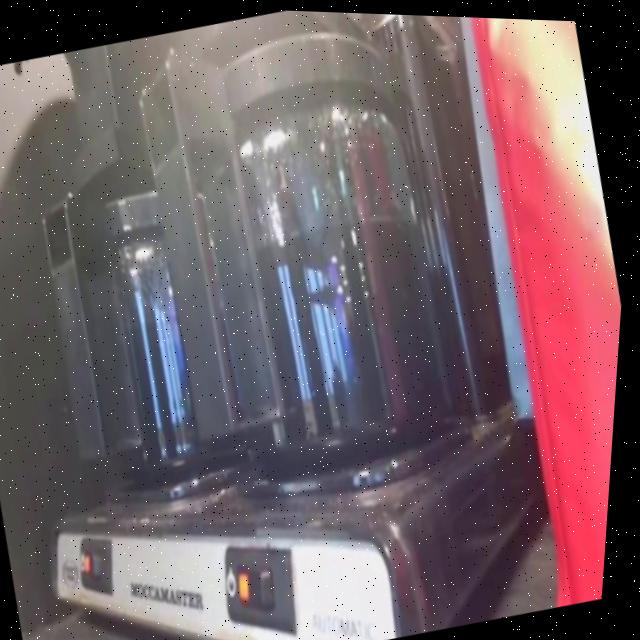coffee: (149, 5, 499, 506), (13, 109, 295, 514)
